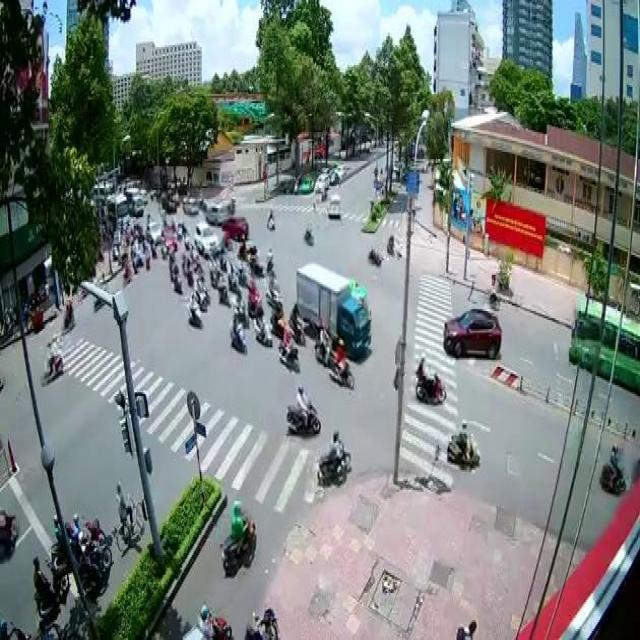bus: (567, 294, 640, 388)
car: (443, 306, 501, 356), (194, 220, 220, 255)
motorcycle: (217, 499, 255, 577), (285, 381, 321, 434), (317, 428, 350, 482), (414, 351, 447, 405), (446, 419, 480, 466), (229, 306, 246, 352)
truck: (296, 260, 370, 354)
